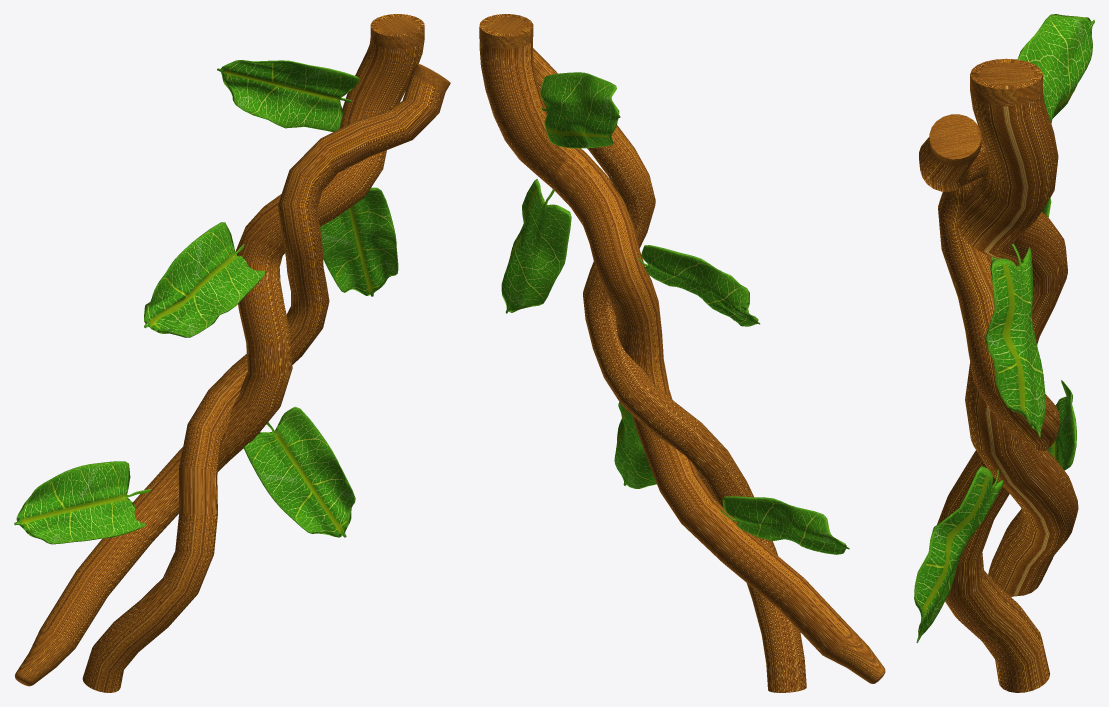
File: Vines.fbx
3 views of the same model, side by side, from view 1: azimuth 30°, elevation 25°; view 2: azimuth 150°, elevation 25°; view 3: azimuth 270°, elevation 25° (orthographic). The views are drawn at different scales.
Parts seen in each view (by area): view 1: pCylinder1, pCylinder2, pCube3, pCube2, pCube1, pCube5, pCube4; view 2: pCylinder1, pCylinder2, pCube4, pCube5, pCube2, pCube1, pCube3; view 3: pCylinder1, pCylinder2, pCube4, pCube3, pCube5, pCube1.
Boxes of the visible parts, x1,y1,x2,y2 form: pCylinder1: [15, 14, 424, 686]; pCylinder2: [82, 63, 450, 692]; pCube3: [243, 406, 355, 537]; pCube2: [144, 222, 265, 337]; pCube1: [14, 461, 151, 544]; pCube5: [217, 60, 359, 131]; pCube4: [320, 187, 398, 296]; pCylinder1: [479, 14, 885, 683]; pCylinder2: [533, 48, 806, 692]; pCube4: [501, 179, 571, 313]; pCube5: [540, 72, 620, 148]; pCube2: [638, 245, 759, 326]; pCube1: [719, 496, 849, 554]; pCube3: [614, 402, 656, 488]; pCylinder1: [957, 58, 1078, 597]; pCylinder2: [919, 114, 1060, 692]; pCube4: [985, 243, 1045, 437]; pCube3: [914, 465, 1003, 642]; pCube5: [1017, 14, 1094, 123]; pCube1: [1047, 380, 1076, 470].
Bounding box in the file's own units: 12.11 × 16.76 × 3.44.
